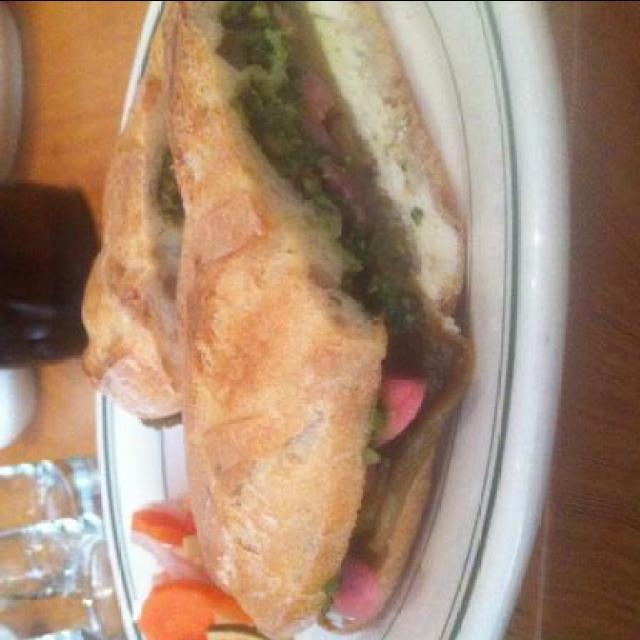Sandwich: (163, 2, 478, 640), (76, 61, 184, 424)
